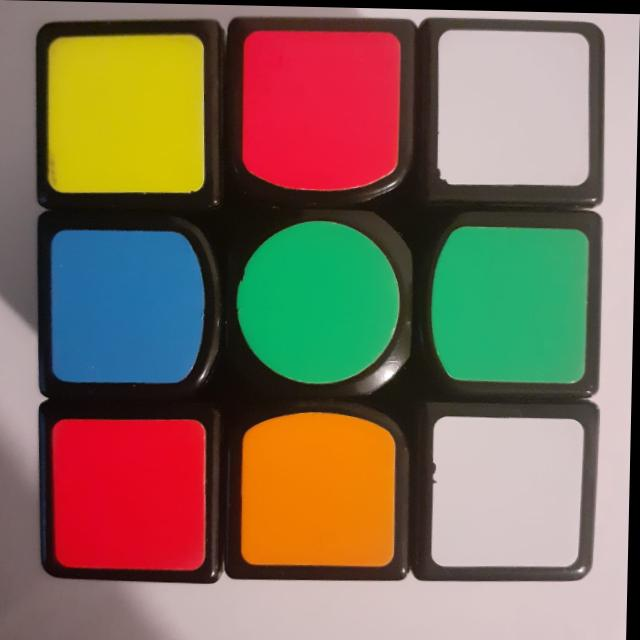Blue: (37, 215, 214, 396)
Green: (218, 218, 415, 391), (421, 218, 603, 396)
Orange: (230, 411, 411, 577)
Red: (40, 407, 223, 582), (229, 21, 405, 195)
White: (419, 16, 605, 200), (424, 412, 591, 574)
Yellow: (36, 33, 219, 206)
